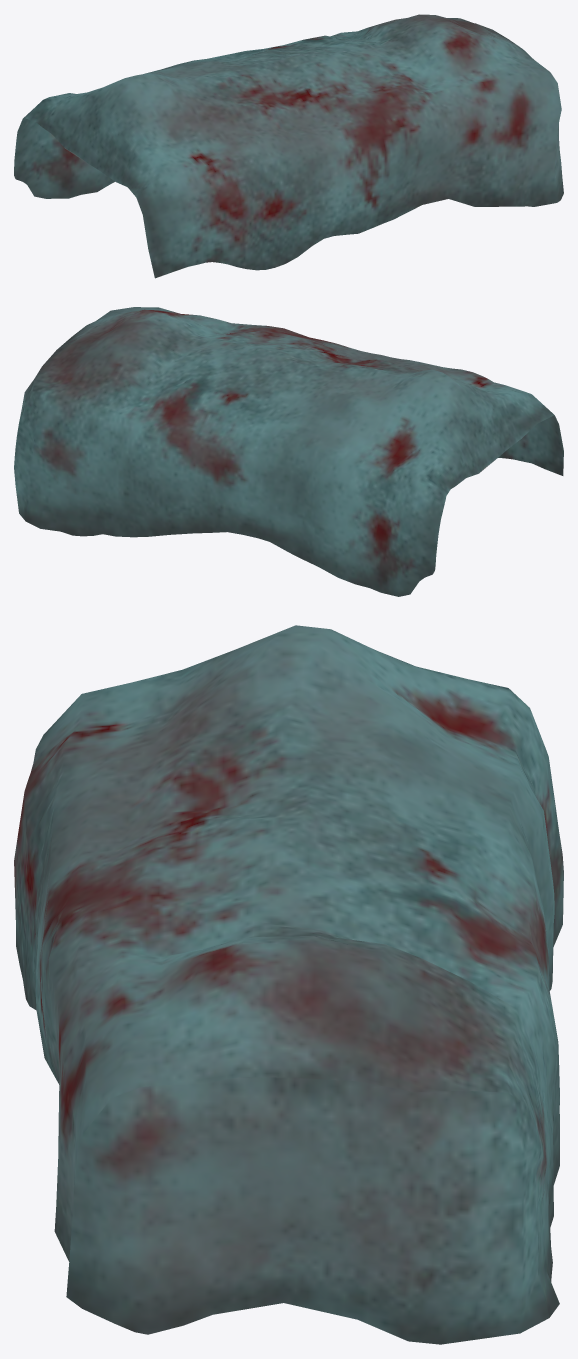
Rendered from covered_body.5bf1c37b76.glb.
The picture shows the model from 3 angles, top to bottom: view 1: azimuth 30°, elevation 25°; view 2: azimuth 150°, elevation 25°; view 3: azimuth 270°, elevation 25°; orthographic projection. The views are drawn at different scales.
Visible parts, largest first — view 1: covered_body; view 2: covered_body; view 3: covered_body.
Part boxes in pixels (left/top/right/bottom): covered_body: left=14, top=14, right=563, bottom=278; covered_body: left=14, top=307, right=563, bottom=596; covered_body: left=14, top=625, right=563, bottom=1344.
Size of the model in its own units: 1.79 by 0.7174 by 0.9947.
Materials: 1 (1 with a texture image).
